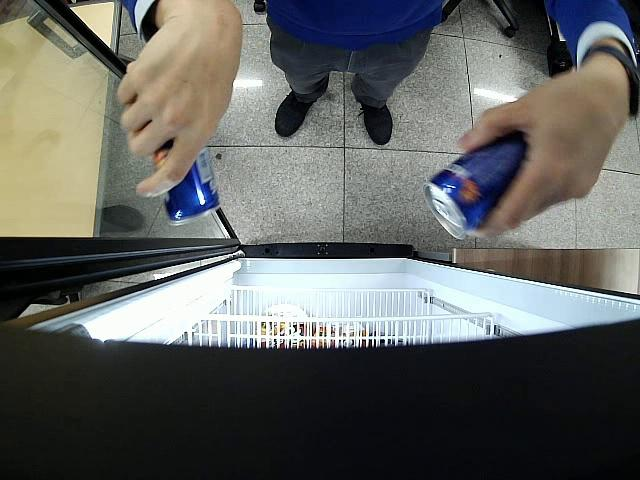00_hand: (457, 70, 630, 238), (117, 27, 242, 196)
16_hot6: (423, 133, 530, 240), (153, 138, 221, 226)
